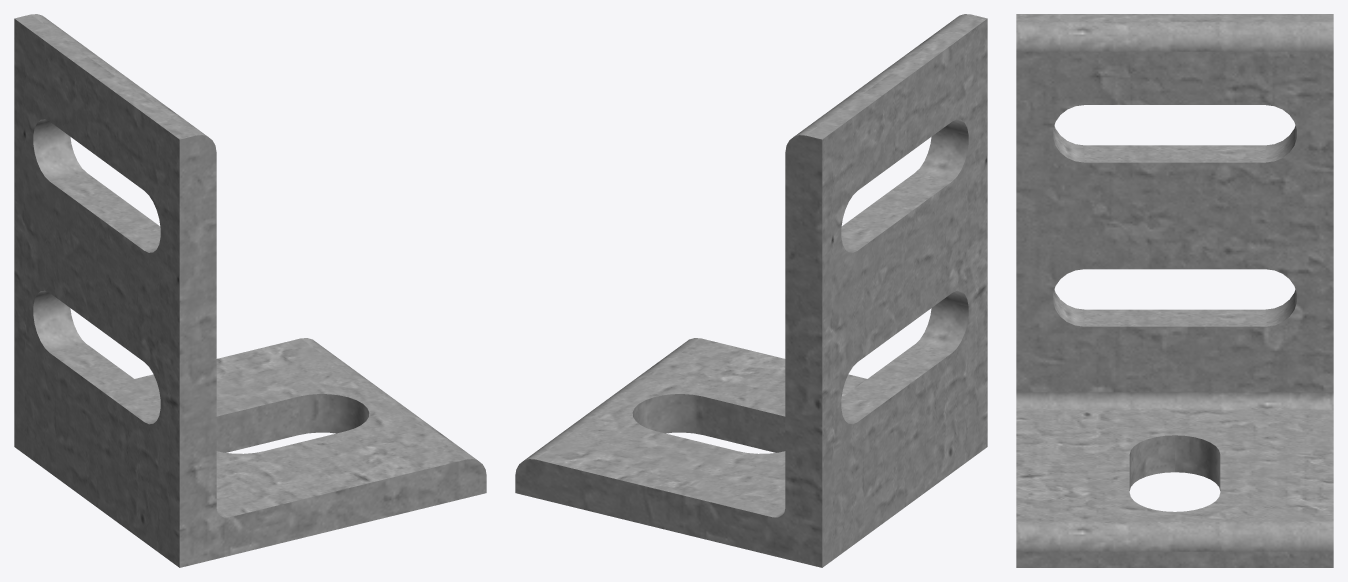
Rendered from glbModel1.glb.
3 views of the same model, side by side, from view 1: azimuth 30°, elevation 25°; view 2: azimuth 150°, elevation 25°; view 3: azimuth 270°, elevation 25° (orthographic). The views are drawn at different scales.
Visible parts, largest first — view 1: Solide1; view 2: Solide1; view 3: Solide1.
Part boxes in pixels (x1,y1,x2,y2): Solide1: (14,14,486,567); Solide1: (515,14,987,567); Solide1: (1016,14,1333,567).
Bounding box in the file's own units: 0.075 × 0.1 × 0.07.
1 material, 1 textured.
